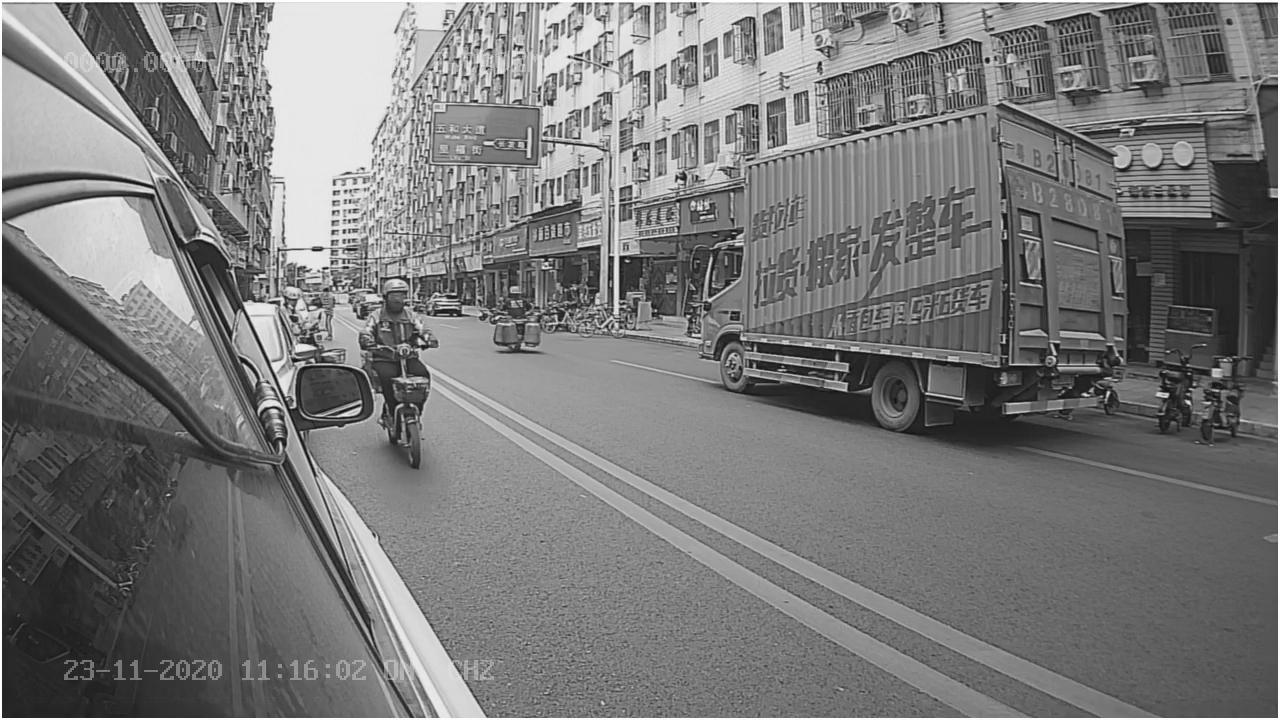person: (354, 273, 442, 347), (355, 275, 441, 344)
